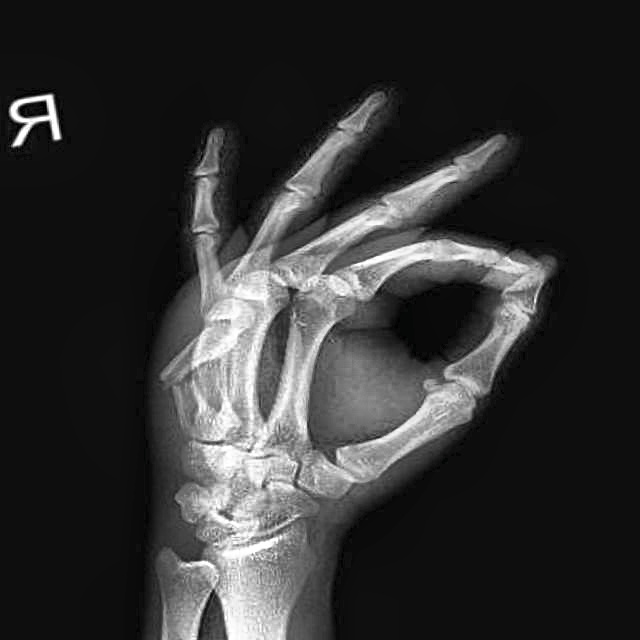Oblique: (149, 328, 248, 427)
